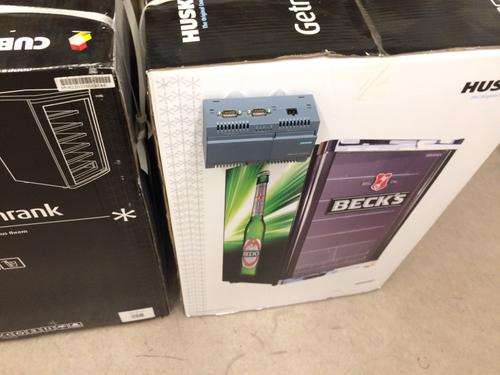iot2000: (201, 93, 321, 169)
